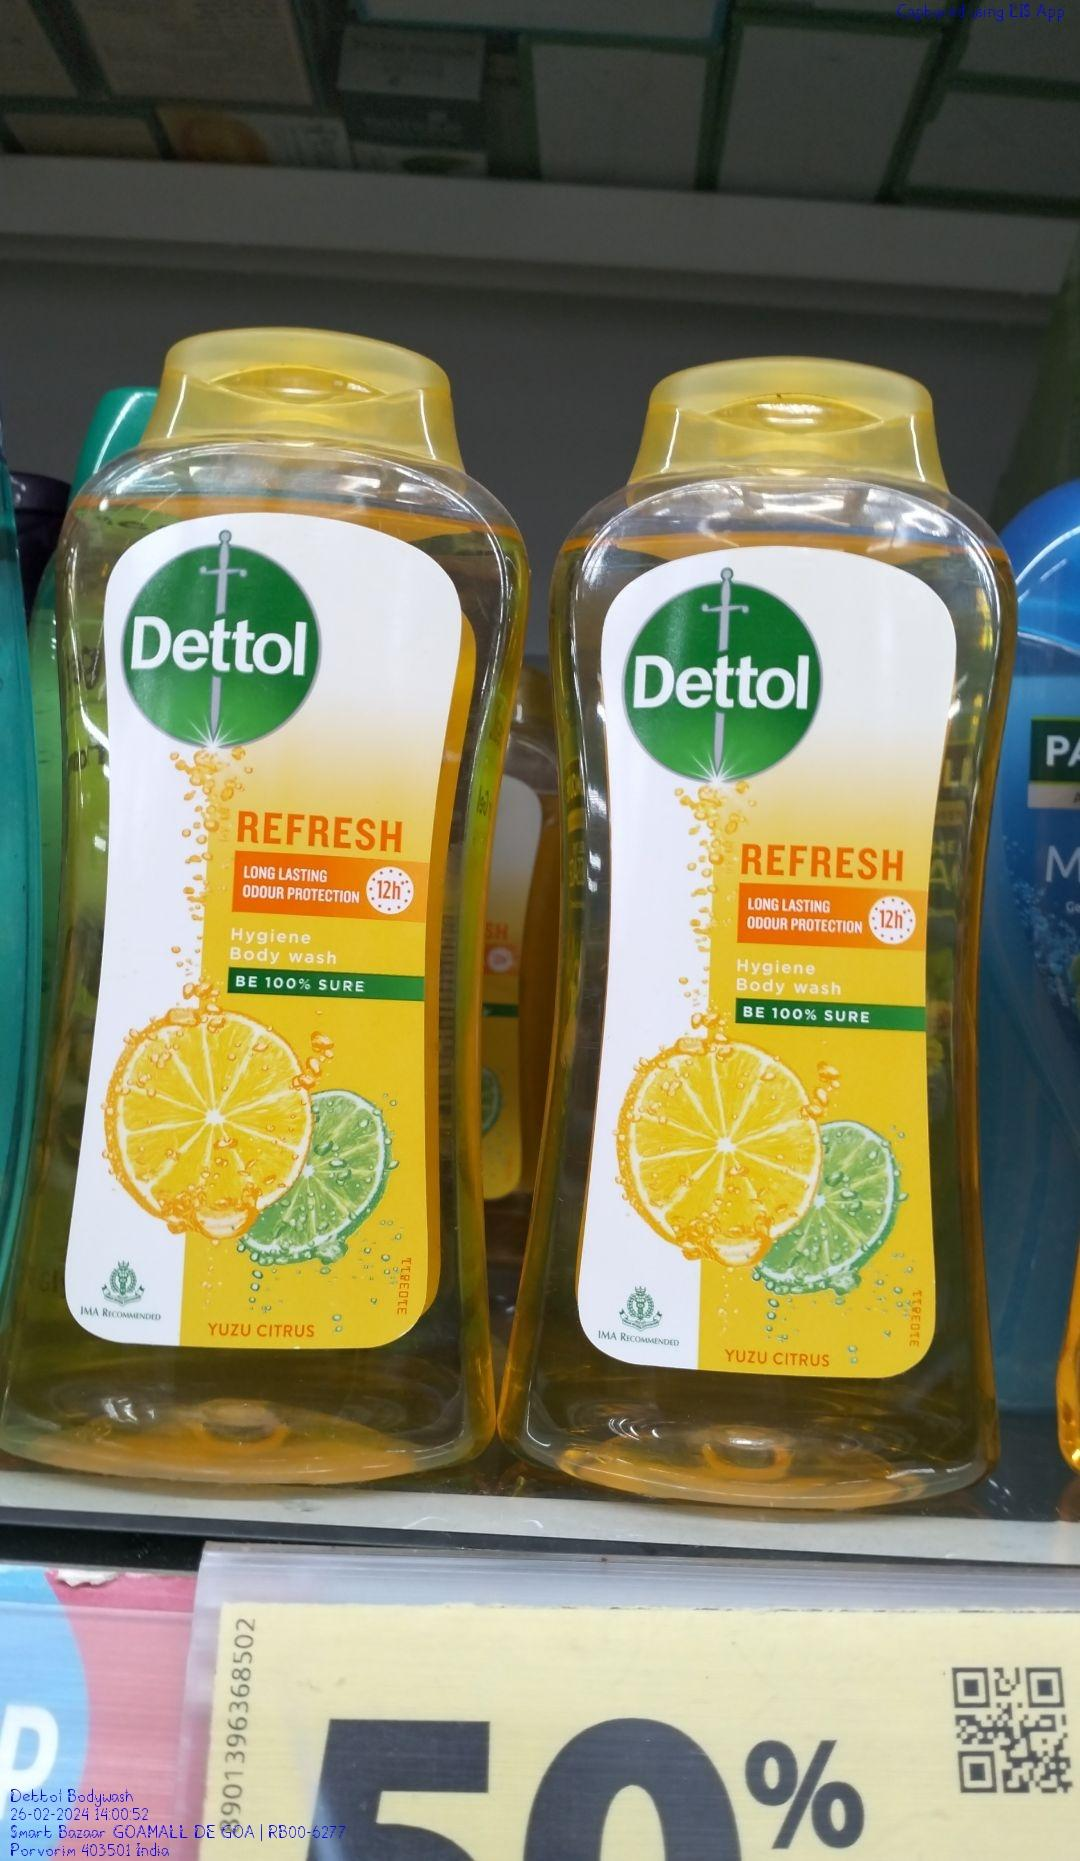Dettol_Bodywash_Refresh: (3, 316, 509, 1500), (505, 346, 1009, 1517)
